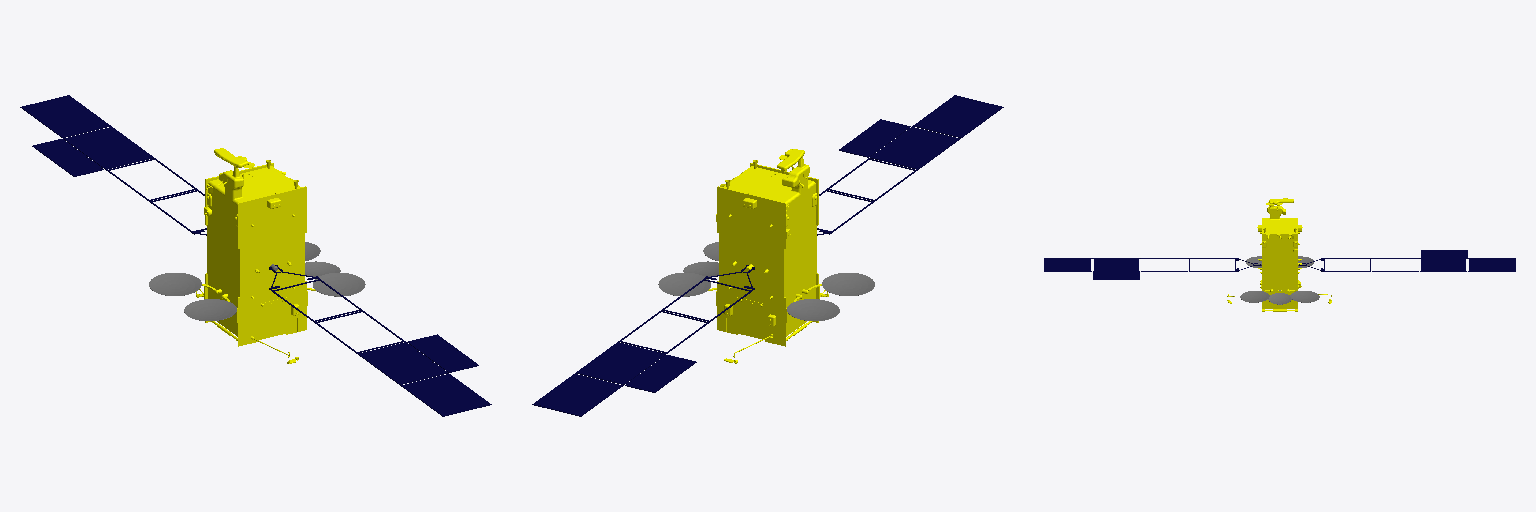
URDF robot description (turksat_orbit):
<?xml version='1.0' encoding='utf-8'?>
<robot name="turksat_orbit">
  <link name="thrust_frame">
    <inertial>
      <origin xyz="0 0 0" rpy="0 0 0" />
      <mass value="2411.710000" />
      <inertia ixx="3097.980001" ixy="-5.506690" ixz="185.975000" iyy="3086.820000" iyz="20.680400" izz="1221.000001" />
    </inertial>
    <visual>
      <origin xyz="-1.401371 0.626800 1.773094" rpy="-3.122582 0.017344 -1.571524" />
      <geometry>
        <mesh filename="package://assets/satelliitedishbig.stl" />
      </geometry>
      <material name="satelliitedishbig_material">
        <color rgba="0.5 0.5 0.5 1" />
      </material>
    </visual>
    <visual>
      <origin xyz="0.706779 0.280975 -0.781702" rpy="1.570794 -1.552325 1.570796" />
      <geometry>
        <mesh filename="package://assets/part_1.stl" />
      </geometry>
      <material name="part_1_material">
        <color rgba="1 1 0 1" />
      </material>
    </visual>
    <visual>
      <origin xyz="-1.401371 -0.624854 1.773094" rpy="-3.122582 -0.017346 -1.570069" />
      <geometry>
        <mesh filename="package://assets/satelliitedishbig.stl" />
      </geometry>
      <material name="satelliitedishbig_2_material">
        <color rgba="0.5 0.5 0.5 1" />
      </material>
    </visual>
    <visual>
      <origin xyz="0.706669 -5.581320 -0.155222" rpy="-1.570799 0.000004 -1.570796" />
      <geometry>
        <mesh filename="package://assets/solar_panel3_1.stl" />
      </geometry>
      <material name="solar_panel3_1_material">
        <color rgba="0.05 0.05 0.3 1" />
      </material>
    </visual>
    <visual>
      <origin xyz="0.026779 -0.614025 -0.131702" rpy="-0.000004 1.570794 -1.570796" />
      <geometry>
        <mesh filename="package://assets/part_1.stl" />
      </geometry>
      <material name="part_1_2_material">
        <color rgba="0.5 0.5 0.5 1" />
      </material>
    </visual>
    <visual>
      <origin xyz="-0.091921 -1.688280 -1.624662" rpy="-1.540918 0.009481 0.183635" />
      <geometry>
        <mesh filename="package://assets/fire3.stl" />
      </geometry>
      <material name="fire3_material">
        <color rgba="1 1 0 1" />
      </material>
    </visual>
    <visual>
      <origin xyz="-0.447601 -0.685580 -1.486662" rpy="-0.071240 0.102127 2.530869" />
      <geometry>
        <mesh filename="package://assets/fire.stl" />
      </geometry>
      <material name="fire_material">
        <color rgba="1 1 0 1" />
      </material>
    </visual>
    <visual>
      <origin xyz="0.988299 -0.645580 -1.291922" rpy="-0.000003 0.124446 3.141592" />
      <geometry>
        <mesh filename="package://assets/fire1.stl" />
      </geometry>
      <material name="fire1_material">
        <color rgba="1 1 0 1" />
      </material>
    </visual>
    <visual>
      <origin xyz="1.256739 -0.350732 -0.776712" rpy="0.012626 0.018474 -1.570796" />
      <geometry>
        <mesh filename="package://assets/part_2.stl" />
      </geometry>
      <material name="part_2_material">
        <color rgba="1 1 0 1" />
      </material>
    </visual>
    <visual>
      <origin xyz="-0.258911 -1.739270 -1.617892" rpy="2.901769 -1.444703 -2.720246" />
      <geometry>
        <mesh filename="package://assets/fire2.stl" />
      </geometry>
      <material name="fire2_material">
        <color rgba="1 1 0 1" />
      </material>
    </visual>
    <visual>
      <origin xyz="0.026779 0.615970 -0.131702" rpy="0.000000 -1.570796 -1.570800" />
      <geometry>
        <mesh filename="package://assets/part_1.stl" />
      </geometry>
      <material name="part_1_3_material">
        <color rgba="1 1 0 1" />
      </material>
    </visual>
    <visual>
      <origin xyz="-1.253131 0.173027 -0.788352" rpy="-0.019036 -0.055566 1.570796" />
      <geometry>
        <mesh filename="package://assets/part_2.stl" />
      </geometry>
      <material name="part_2_2_material">
        <color rgba="1 1 0 1" />
      </material>
    </visual>
    <visual>
      <origin xyz="1.256739 0.352682 -0.776702" rpy="3.128969 0.018474 1.570796" />
      <geometry>
        <mesh filename="package://assets/part_2.stl" />
      </geometry>
      <material name="part_2_3_material">
        <color rgba="1 1 0 1" />
      </material>
    </visual>
    <visual>
      <origin xyz="0.706779 -0.279025 -0.781702" rpy="1.570794 1.552324 1.570796" />
      <geometry>
        <mesh filename="package://assets/part_1.stl" />
      </geometry>
      <material name="part_1_4_material">
        <color rgba="1 1 0 1" />
      </material>
    </visual>
    <visual>
      <origin xyz="-1.253131 -0.171077 -0.788342" rpy="-3.122549 -0.055566 -1.570796" />
      <geometry>
        <mesh filename="package://assets/part_2.stl" />
      </geometry>
      <material name="part_2_4_material">
        <color rgba="1 1 0 1" />
      </material>
    </visual>
    <visual>
      <origin xyz="-0.209231 1.712020 -1.623522" rpy="-1.540921 -0.009481 2.957958" />
      <geometry>
        <mesh filename="package://assets/fire3.stl" />
      </geometry>
      <material name="fire3_2_material">
        <color rgba="1 1 0 1" />
      </material>
    </visual>
    <visual>
      <origin xyz="-0.653221 -0.119025 -0.781702" rpy="-1.570796 -1.515232 1.570796" />
      <geometry>
        <mesh filename="package://assets/part3.stl" />
      </geometry>
      <material name="part3_material">
        <color rgba="1 1 0 1" />
      </material>
    </visual>
    <visual>
      <origin xyz="1.548409 0.000975 0.796689" rpy="-3.059766 0.000004 1.570796" />
      <geometry>
        <mesh filename="package://assets/satelliitedish2.stl" />
      </geometry>
      <material name="satelliitedish2_material">
        <color rgba="0.5 0.5 0.5 1" />
      </material>
    </visual>
    <visual>
      <origin xyz="-1.887231 0.647530 -1.651642" rpy="0.000000 -0.124446 0.000000" />
      <geometry>
        <mesh filename="package://assets/fire1.stl" />
      </geometry>
      <material name="fire1_2_material">
        <color rgba="1 1 0 1" />
      </material>
    </visual>
    <visual>
      <origin xyz="-1.059101 5.605270 -0.155222" rpy="-1.570799 0.000004 -1.570796" />
      <geometry>
        <mesh filename="package://assets/solar_panel3_1.stl" />
      </geometry>
      <material name="solar_panel3_1_2_material">
        <color rgba="0.05 0.05 0.3 1" />
      </material>
    </visual>
    <visual>
      <origin xyz="1.324719 0.926280 1.750521" rpy="3.128965 0.029674 1.570655" />
      <geometry>
        <mesh filename="package://assets/satelliitedishbig.stl" />
      </geometry>
      <material name="satelliitedishbig_3_material">
        <color rgba="0.5 0.5 0.5 1" />
      </material>
    </visual>
    <visual>
      <origin xyz="-0.653221 0.120975 -0.781702" rpy="-1.570796 1.515234 1.570796" />
      <geometry>
        <mesh filename="package://assets/part3.stl" />
      </geometry>
      <material name="part3_2_material">
        <color rgba="1 1 0 1" />
      </material>
    </visual>
    <visual>
      <origin xyz="0.026779 2.225240 -0.137682" rpy="1.570796 0.000004 -1.570796" />
      <geometry>
        <mesh filename="package://assets/solar_part_2.stl" />
      </geometry>
      <material name="solar_part_2_material">
        <color rgba="0.05 0.05 0.3 1" />
      </material>
    </visual>
    <visual>
      <origin xyz="0.026779 -2.223290 -0.137682" rpy="1.570799 0.000004 1.570796" />
      <geometry>
        <mesh filename="package://assets/solar_part_2.stl" />
      </geometry>
      <material name="solar_part_2_2_material">
        <color rgba="0.05 0.05 0.3 1" />
      </material>
    </visual>
    <visual>
      <origin xyz="-0.451941 0.687530 -1.451932" rpy="-3.070355 0.102127 -2.530869" />
      <geometry>
        <mesh filename="package://assets/fire.stl" />
      </geometry>
      <material name="fire_2_material">
        <color rgba="1 1 0 1" />
      </material>
    </visual>
    <visual>
      <origin xyz="-0.258911 1.741220 -1.617892" rpy="0.239826 -1.444703 2.720246" />
      <geometry>
        <mesh filename="package://assets/fire2.stl" />
      </geometry>
      <material name="fire2_2_material">
        <color rgba="1 1 0 1" />
      </material>
    </visual>
    <visual>
      <origin xyz="0.026779 0.630970 -0.131702" rpy="0.000000 -1.570796 -0.000000" />
      <geometry>
        <mesh filename="package://assets/satellite_body.stl" />
      </geometry>
      <material name="satellite_body_material">
        <color rgba="1 1 0 1" />
      </material>
    </visual>
    <visual>
      <origin xyz="1.324719 -0.924331 1.750521" rpy="3.128965 -0.029676 1.570938" />
      <geometry>
        <mesh filename="package://assets/satelliitedishbig.stl" />
      </geometry>
      <material name="satelliitedishbig_4_material">
        <color rgba="0.5 0.5 0.5 1" />
      </material>
    </visual>
    <visual>
      <origin xyz="0.026739 -7.220520 -0.155222" rpy="-1.570799 0.000004 -1.570796" />
      <geometry>
        <mesh filename="package://assets/solar_panel4.stl" />
      </geometry>
      <material name="solar_panel4_material">
        <color rgba="0.05 0.05 0.3 1" />
      </material>
    </visual>
    <visual>
      <origin xyz="0.026739 -7.220520 -0.155222" rpy="-1.570799 0.000004 -1.570796" />
      <geometry>
        <mesh filename="package://assets/solar_panel4__2.stl" />
      </geometry>
      <material name="solar_panel4_2_material">
        <color rgba="0.05 0.05 0.3 1" />
      </material>
    </visual>
    <visual>
      <origin xyz="0.026739 7.222470 -0.155222" rpy="-1.570796 0.000004 1.570796" />
      <geometry>
        <mesh filename="package://assets/solar_panel4.stl" />
      </geometry>
      <material name="solar_panel4_3_material">
        <color rgba="0.05 0.05 0.3 1" />
      </material>
    </visual>
    <visual>
      <origin xyz="0.026739 7.222470 -0.155222" rpy="-1.570796 0.000004 1.570796" />
      <geometry>
        <mesh filename="package://assets/solar_panel4__2.stl" />
      </geometry>
      <material name="solar_panel4_4_material">
        <color rgba="0.05 0.05 0.3 1" />
      </material>
    </visual>
    <visual>
      <origin xyz="0.026739 5.585270 -0.155222" rpy="-1.570796 0.000004 1.570796" />
      <geometry>
        <mesh filename="package://assets/solar_panel3.stl" />
      </geometry>
      <material name="solar_panel3_material">
        <color rgba="0.05 0.05 0.3 1" />
      </material>
    </visual>
    <visual>
      <origin xyz="0.026739 5.585270 -0.155222" rpy="-1.570796 0.000004 1.570796" />
      <geometry>
        <mesh filename="package://assets/solar_panel3__2.stl" />
      </geometry>
      <material name="solar_panel3_2_material">
        <color rgba="0.05 0.05 0.3 1" />
      </material>
    </visual>
    <visual>
      <origin xyz="0.026739 -2.308930 -0.155222" rpy="-1.570799 0.000004 -1.570796" />
      <geometry>
        <mesh filename="package://assets/solar_panel.stl" />
      </geometry>
      <material name="solar_panel_material">
        <color rgba="0.05 0.05 0.3 1" />
      </material>
    </visual>
    <visual>
      <origin xyz="0.026739 -2.308930 -0.155222" rpy="-1.570799 0.000004 -1.570796" />
      <geometry>
        <mesh filename="package://assets/solar_panel__2.stl" />
      </geometry>
      <material name="solar_panel_2_material">
        <color rgba="0.05 0.05 0.3 1" />
      </material>
    </visual>
    <visual>
      <origin xyz="0.026739 2.310880 -0.155222" rpy="-1.570796 0.000004 1.570796" />
      <geometry>
        <mesh filename="package://assets/solar_panel.stl" />
      </geometry>
      <material name="solar_panel_3_material">
        <color rgba="0.05 0.05 0.3 1" />
      </material>
    </visual>
    <visual>
      <origin xyz="0.026739 2.310880 -0.155222" rpy="-1.570796 0.000004 1.570796" />
      <geometry>
        <mesh filename="package://assets/solar_panel__2.stl" />
      </geometry>
      <material name="solar_panel_4_material">
        <color rgba="0.05 0.05 0.3 1" />
      </material>
    </visual>
    <visual>
      <origin xyz="0.026739 -5.583320 -0.155222" rpy="-1.570799 0.000004 -1.570796" />
      <geometry>
        <mesh filename="package://assets/solar_panel3.stl" />
      </geometry>
      <material name="solar_panel3_3_material">
        <color rgba="0.05 0.05 0.3 1" />
      </material>
    </visual>
    <visual>
      <origin xyz="0.026739 -5.583320 -0.155222" rpy="-1.570799 0.000004 -1.570796" />
      <geometry>
        <mesh filename="package://assets/solar_panel3__2.stl" />
      </geometry>
      <material name="solar_panel3_4_material">
        <color rgba="0.05 0.05 0.3 1" />
      </material>
    </visual>
    <visual>
      <origin xyz="0.026739 3.948080 -0.155222" rpy="-1.570796 0.000004 1.570796" />
      <geometry>
        <mesh filename="package://assets/solar_panel.stl" />
      </geometry>
      <material name="solar_panel_5_material">
        <color rgba="0.05 0.05 0.3 1" />
      </material>
    </visual>
    <visual>
      <origin xyz="0.026739 3.948080 -0.155222" rpy="-1.570796 0.000004 1.570796" />
      <geometry>
        <mesh filename="package://assets/solar_panel__2.stl" />
      </geometry>
      <material name="solar_panel_6_material">
        <color rgba="0.05 0.05 0.3 1" />
      </material>
    </visual>
    <visual>
      <origin xyz="0.026739 -3.946130 -0.155222" rpy="-1.570799 0.000004 -1.570796" />
      <geometry>
        <mesh filename="package://assets/solar_panel.stl" />
      </geometry>
      <material name="solar_panel_7_material">
        <color rgba="0.05 0.05 0.3 1" />
      </material>
    </visual>
    <visual>
      <origin xyz="0.026739 -3.946130 -0.155222" rpy="-1.570799 0.000004 -1.570796" />
      <geometry>
        <mesh filename="package://assets/solar_panel__2.stl" />
      </geometry>
      <material name="solar_panel_8_material">
        <color rgba="0.05 0.05 0.3 1" />
      </material>
    </visual>
  </link>
  <link name="com_marker">
    <inertial>
      <origin xyz="0 0 0" rpy="0 0 0" />
      <mass value="0.001" />
      <inertia ixx="1e-7" ixy="0" ixz="0" iyy="1e-7" iyz="0" izz="1e-7" />
    </inertial>
  </link>
  <joint name="com_marker_fixed" type="fixed">
    <origin xyz="0 0 0" rpy="0 0 0" />
    <parent link="thrust_frame" />
    <child link="com_marker" />
  </joint>
</robot>

--- Render facts (derived) ---
Views: 3 orthographic renders of the robot side by side, from view 1: azimuth 30°, elevation 25°; view 2: azimuth 150°, elevation 25°; view 3: azimuth 270°, elevation 25°.
Model turksat_orbit with 2 links and 1 joints (1 fixed), rooted at thrust_frame, posed all joints at 0.
Links seen in each view (by area): view 1: thrust_frame; view 2: thrust_frame; view 3: thrust_frame.
Link boxes in pixels (x1,y1,x2,y2): thrust_frame: [20, 95, 491, 416]; thrust_frame: [532, 95, 1003, 416]; thrust_frame: [1044, 198, 1515, 311].
Size in the robot's own frame: 3.72 by 16.05 by 3.7 metres.
Meshes: 18 distinct files referenced, 40 mesh visuals loaded (17 binary STL); not drawn: 4 (reference not matched to a file when rendering).
